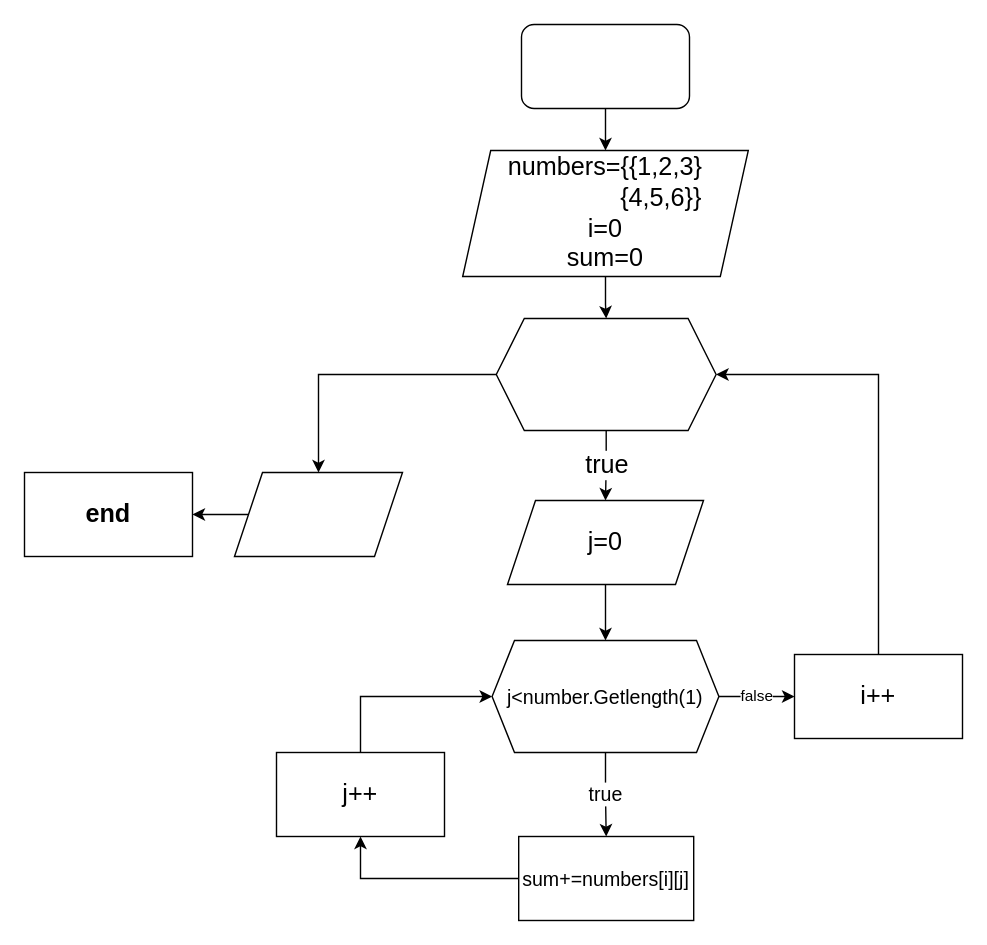
Some shapes in this 987 by 945 pixel diagram are drawn without their labels. The shapes that lost their labels are listed below. From the top down, each one's centre as x and y in pixels, then its label:
At [605,65]: "start".
At [605,373]: "i<number.Getlength(0)".
At [317,513]: "print(sum)".
